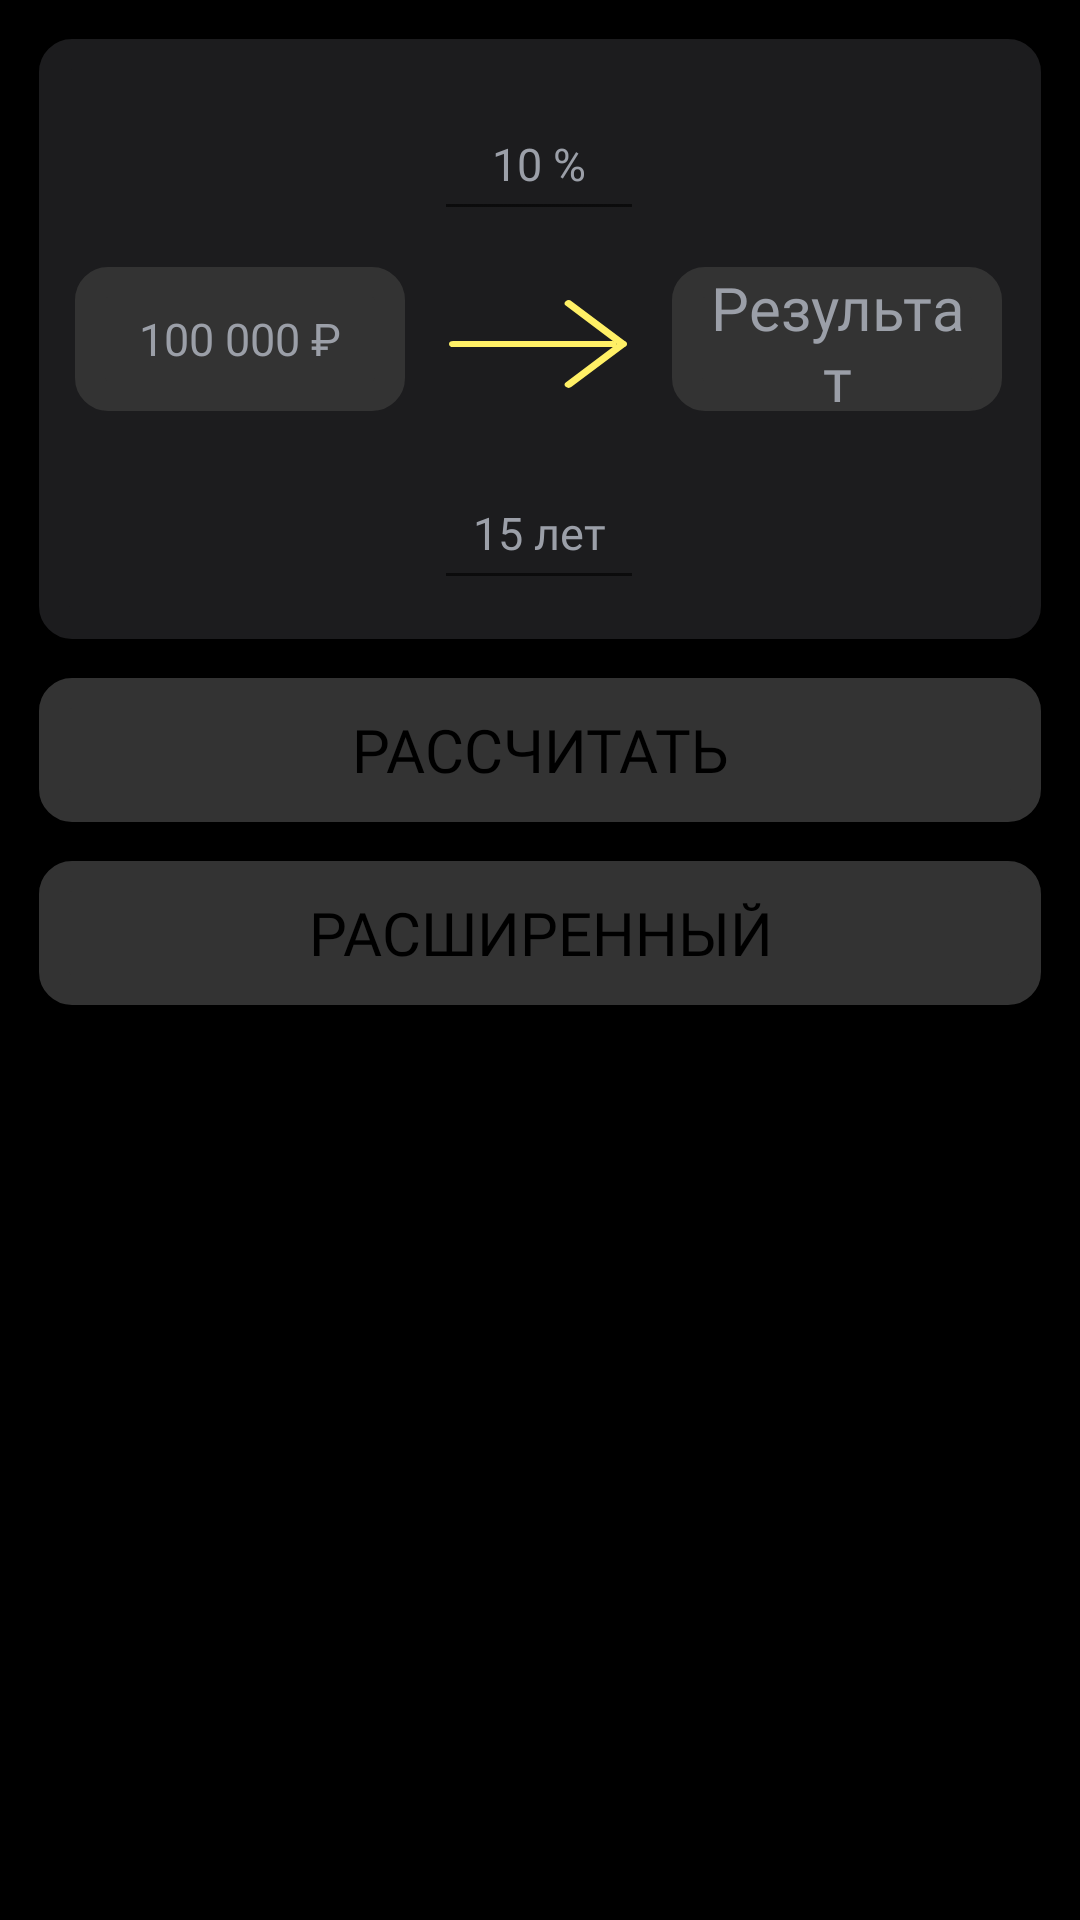

Icon bounding boxes for this 1080*1920 phone screenshot, format (x1, y1, x2, y2):
strelka: (449, 300, 627, 388)
